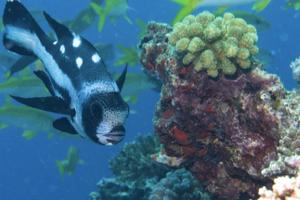Lutjanidae -Snappers-: (0, 0, 130, 147)
